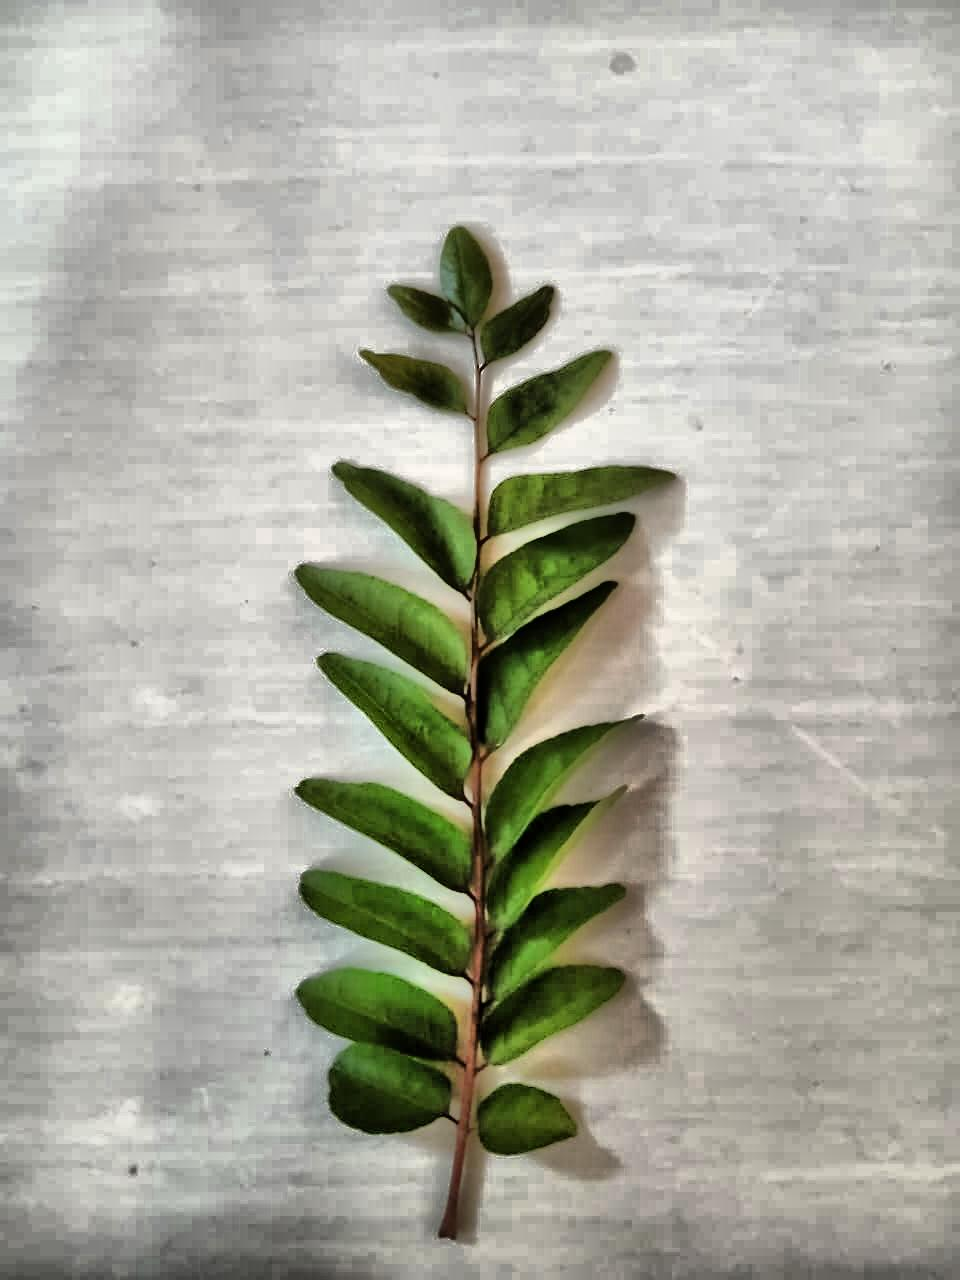daun kari: (295, 226, 674, 1238)
